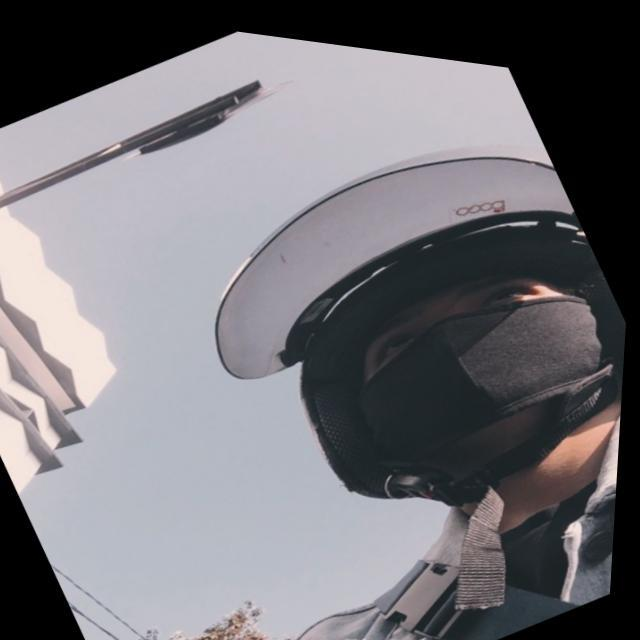Helmet: (211, 149, 625, 511)
